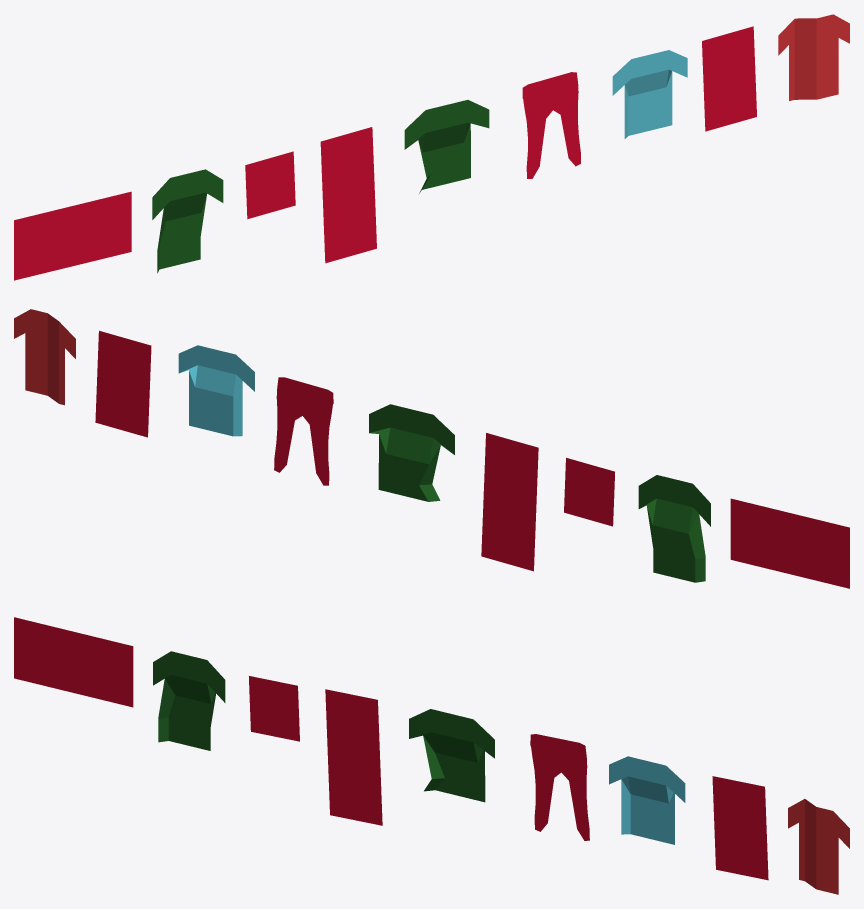
The model's file is laundry_001.glb.
3 renders of one model, top to bottom at view 1: azimuth 30°, elevation 25°; view 2: azimuth 150°, elevation 25°; view 3: azimuth 330°, elevation 25°, orthographic.
Visible parts, largest first — view 1: hanging_001, hanging_004, hanging_008, hanging_005, hanging_002, hanging_009, hanging_007, hanging_006, hanging_003; view 2: hanging_001, hanging_004, hanging_005, hanging_002, hanging_008, hanging_007, hanging_006, hanging_009, hanging_003; view 3: hanging_001, hanging_004, hanging_005, hanging_002, hanging_008, hanging_007, hanging_006, hanging_009, hanging_003.
Part boxes in pixels (bbox=[...]): hanging_001: bbox=[14, 191, 131, 280]; hanging_004: bbox=[320, 127, 376, 263]; hanging_008: bbox=[702, 26, 756, 131]; hanging_005: bbox=[404, 100, 489, 193]; hanging_002: bbox=[152, 169, 223, 273]; hanging_009: bbox=[778, 14, 849, 100]; hanging_007: bbox=[612, 50, 687, 138]; hanging_006: bbox=[522, 72, 580, 178]; hanging_003: bbox=[245, 151, 295, 219]; hanging_001: bbox=[730, 498, 849, 588]; hanging_004: bbox=[481, 433, 538, 571]; hanging_005: bbox=[369, 404, 454, 501]; hanging_002: bbox=[638, 475, 710, 582]; hanging_008: bbox=[95, 330, 151, 437]; hanging_007: bbox=[178, 345, 254, 436]; hanging_006: bbox=[274, 377, 333, 485]; hanging_009: bbox=[14, 309, 75, 405]; hanging_003: bbox=[564, 457, 614, 526]; hanging_001: bbox=[14, 617, 133, 707]; hanging_004: bbox=[325, 689, 382, 825]; hanging_005: bbox=[409, 709, 494, 802]; hanging_002: bbox=[153, 651, 225, 750]; hanging_008: bbox=[712, 776, 768, 880]; hanging_007: bbox=[609, 756, 685, 844]; hanging_006: bbox=[530, 734, 589, 840]; hanging_009: bbox=[788, 799, 849, 894]; hanging_003: bbox=[249, 676, 299, 741].
Size of the model in its own units: 14.11 by 2.21 by 0.289.
